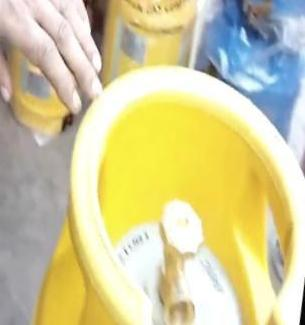cylinder: (1, 0, 305, 325)
